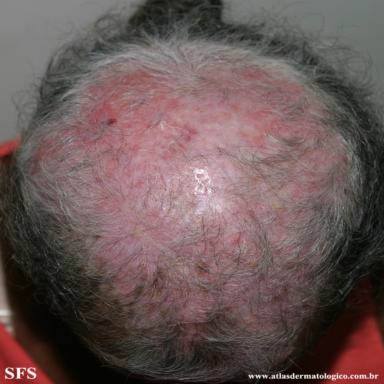Lupus-Erythematosus-Chronicus-Discoides: (30, 66, 346, 352)
